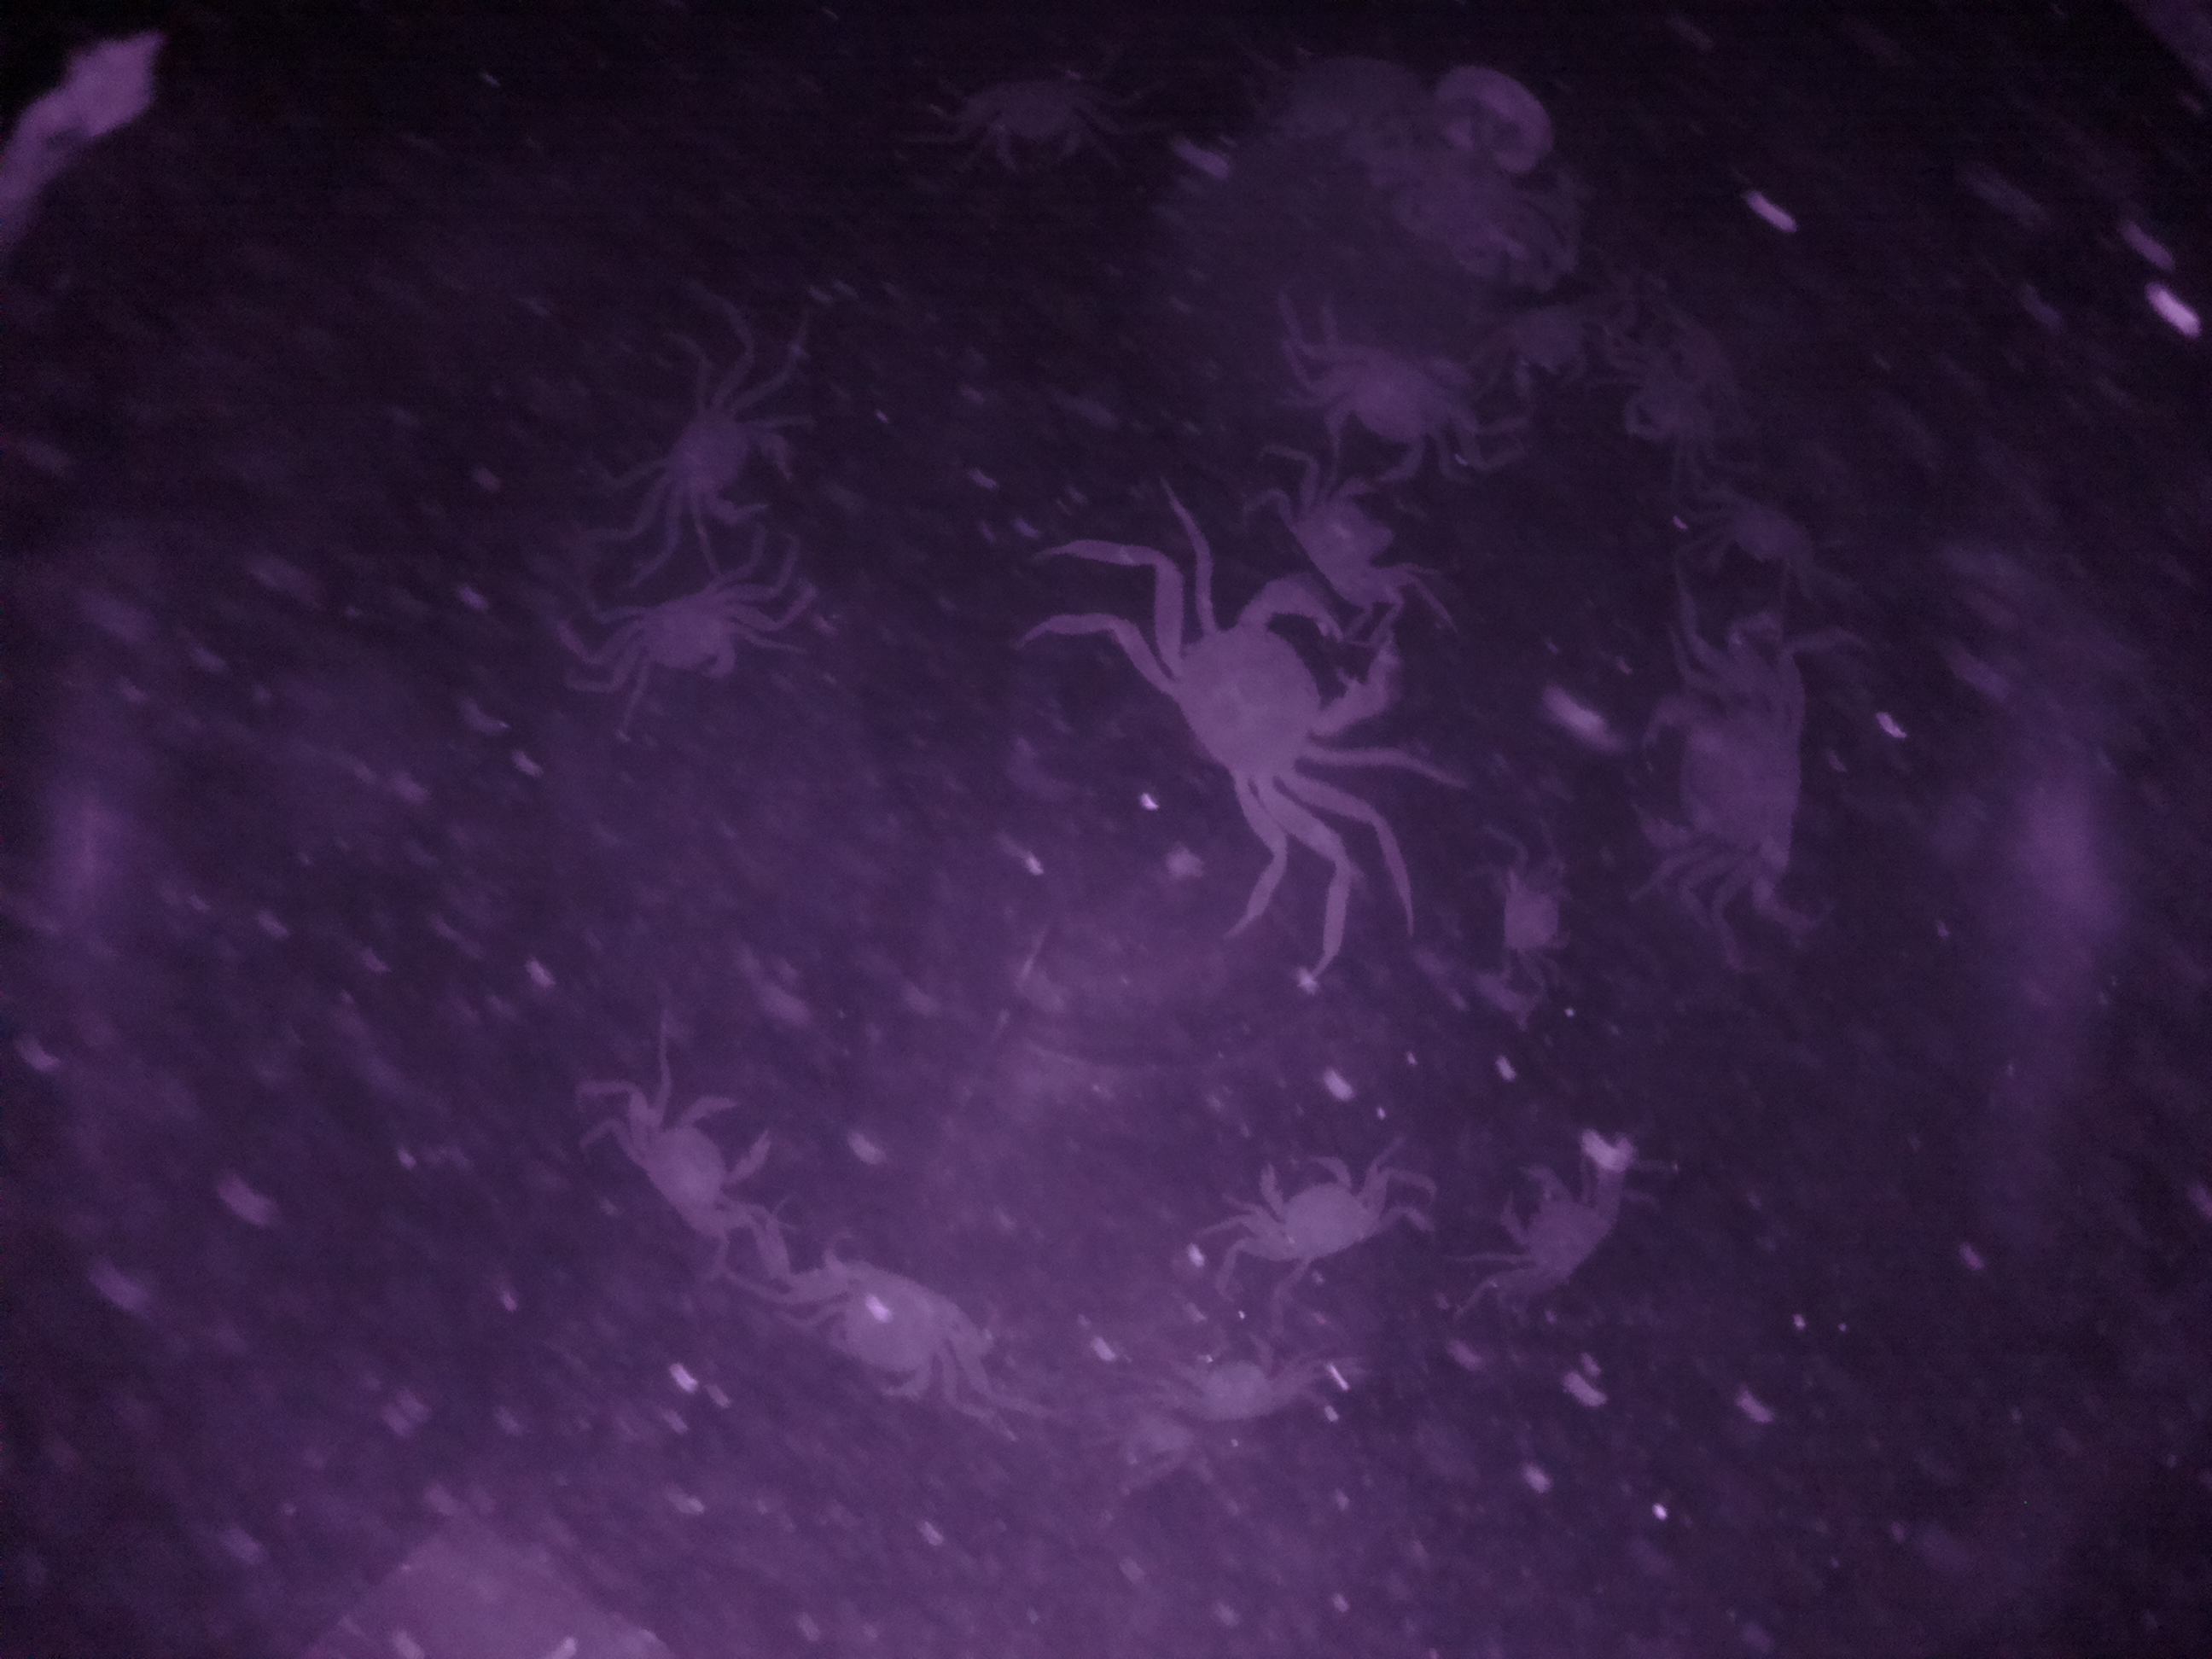Crab: (1115, 573, 1411, 840), (1602, 653, 1841, 903), (1280, 329, 1503, 498), (782, 1249, 1003, 1417), (610, 1075, 784, 1263), (620, 373, 810, 538), (1217, 1140, 1409, 1284), (585, 573, 784, 702)
